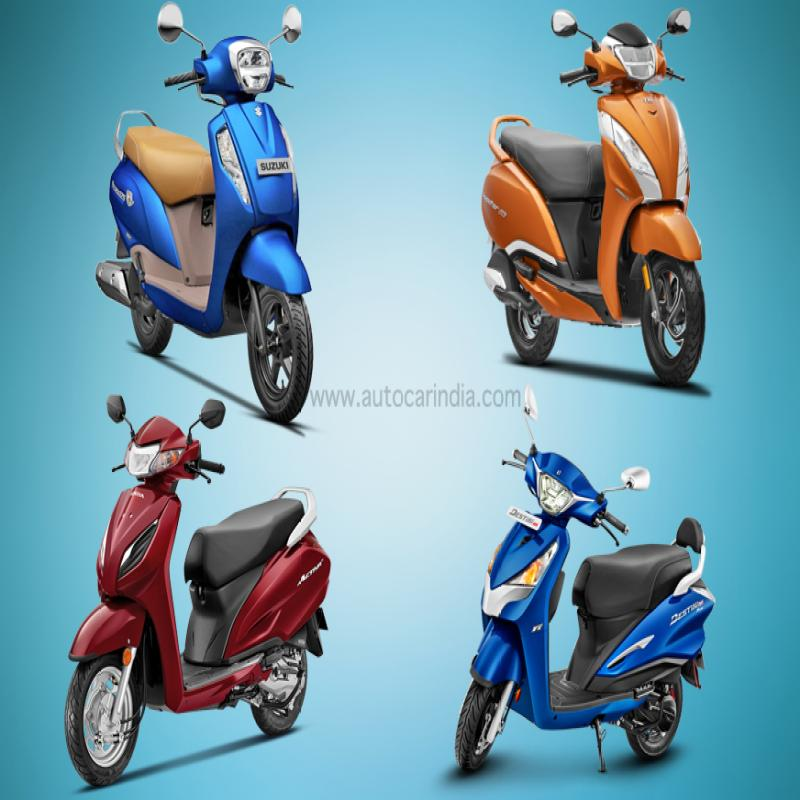bike: (21, 380, 345, 791), (49, 0, 362, 417), (429, 379, 736, 800), (446, 0, 744, 411)
